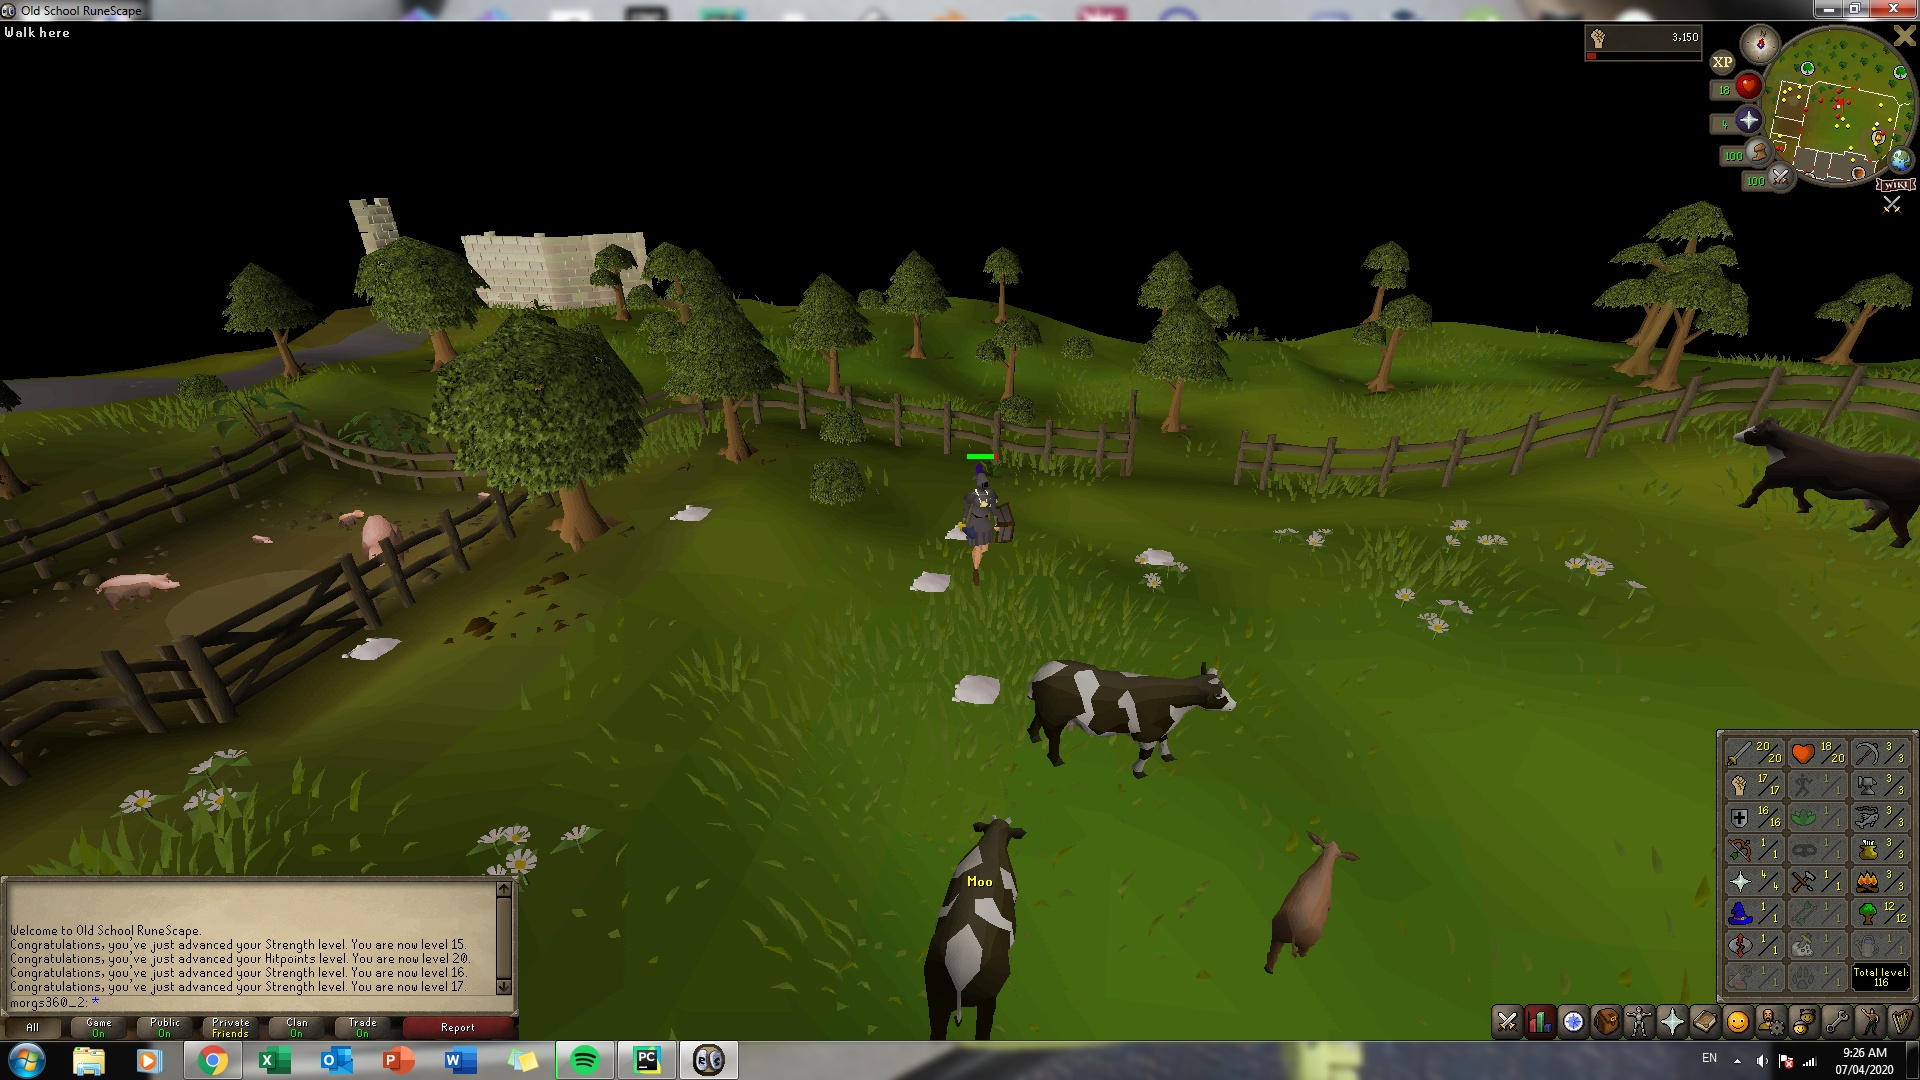cow: (1020, 650, 1237, 781), (1730, 416, 1919, 550), (923, 802, 1027, 1039), (1264, 816, 1358, 981)
player: (958, 467, 998, 585)
